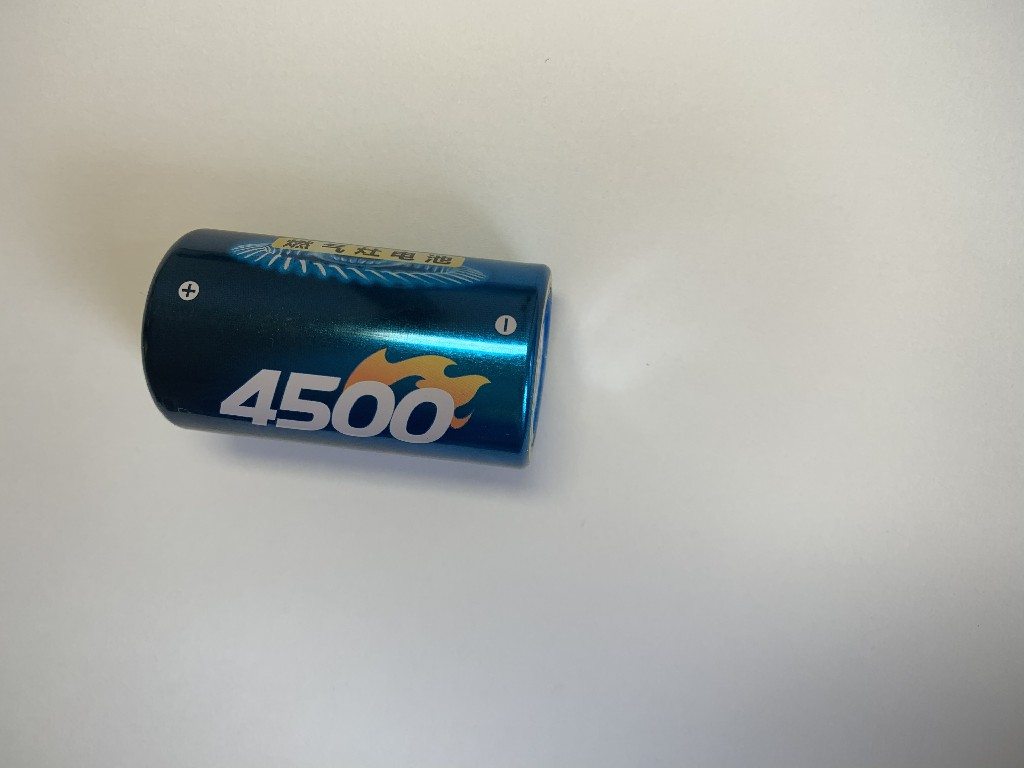charge: (135, 225, 560, 473)
